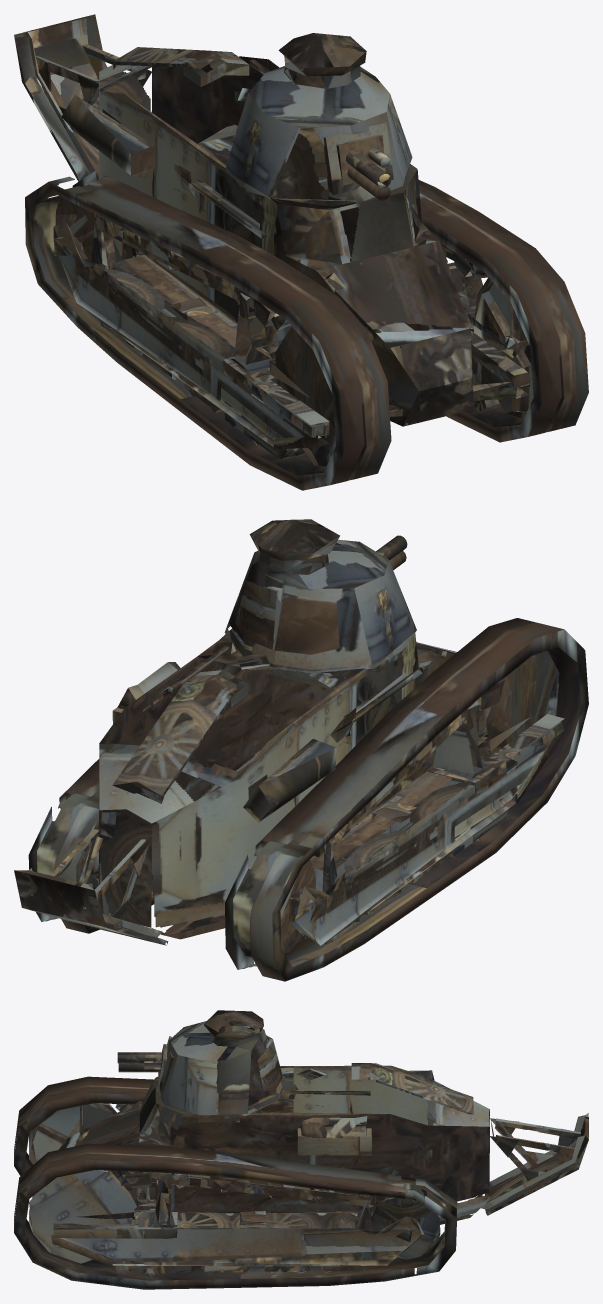
Rendered from fttank.dae.
3 renders of one model, top to bottom at view 1: azimuth 30°, elevation 25°; view 2: azimuth 150°, elevation 25°; view 3: azimuth 270°, elevation 25°, orthographic. The views are drawn at different scales.
Visible parts, largest first — view 1: base, tracks, turett, gun; view 2: base, tracks, turett, gun; view 3: base, tracks, turett, gun.
Part boxes in pixels (box(x1,y1,x2,y2)): base: box(14, 14, 533, 466); tracks: box(25, 170, 588, 490); turett: box(225, 33, 412, 206); gun: box(346, 148, 391, 200); base: box(14, 629, 564, 953); tracks: box(28, 618, 588, 981); turett: box(224, 519, 416, 673); gun: box(376, 535, 407, 570); base: box(29, 1063, 588, 1276); tracks: box(14, 1076, 456, 1289); turett: box(156, 1010, 282, 1115); gun: box(117, 1052, 162, 1072).
Bounding box in the file's own units: 22.06 × 61.2 × 28.52.
1 material, 1 textured.
